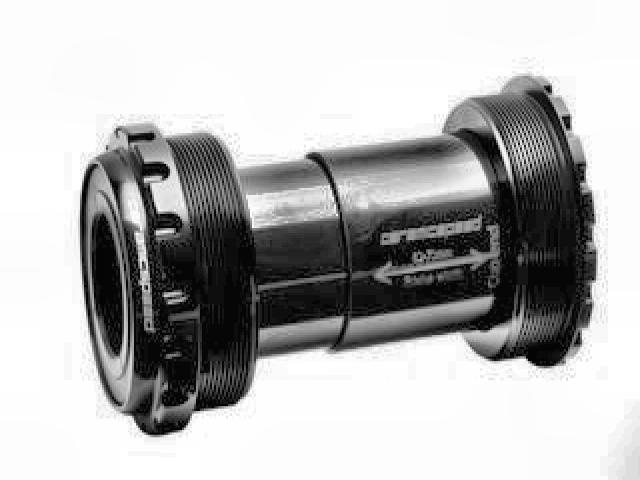bottom_bracket: (76, 70, 599, 436)
